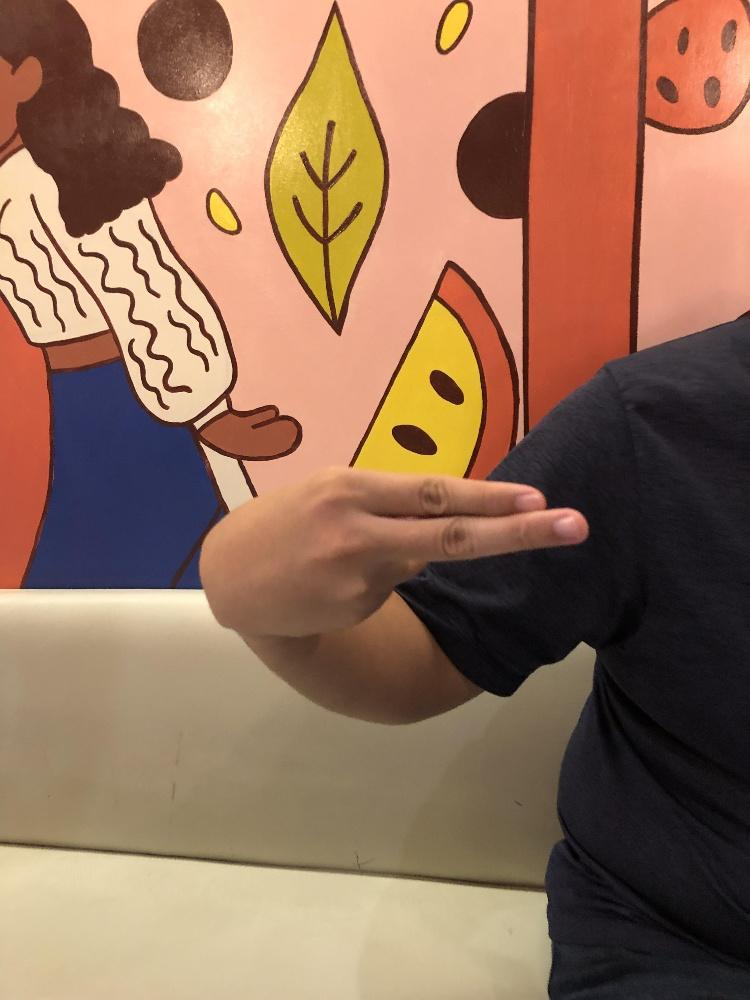h: (197, 465, 592, 635)
